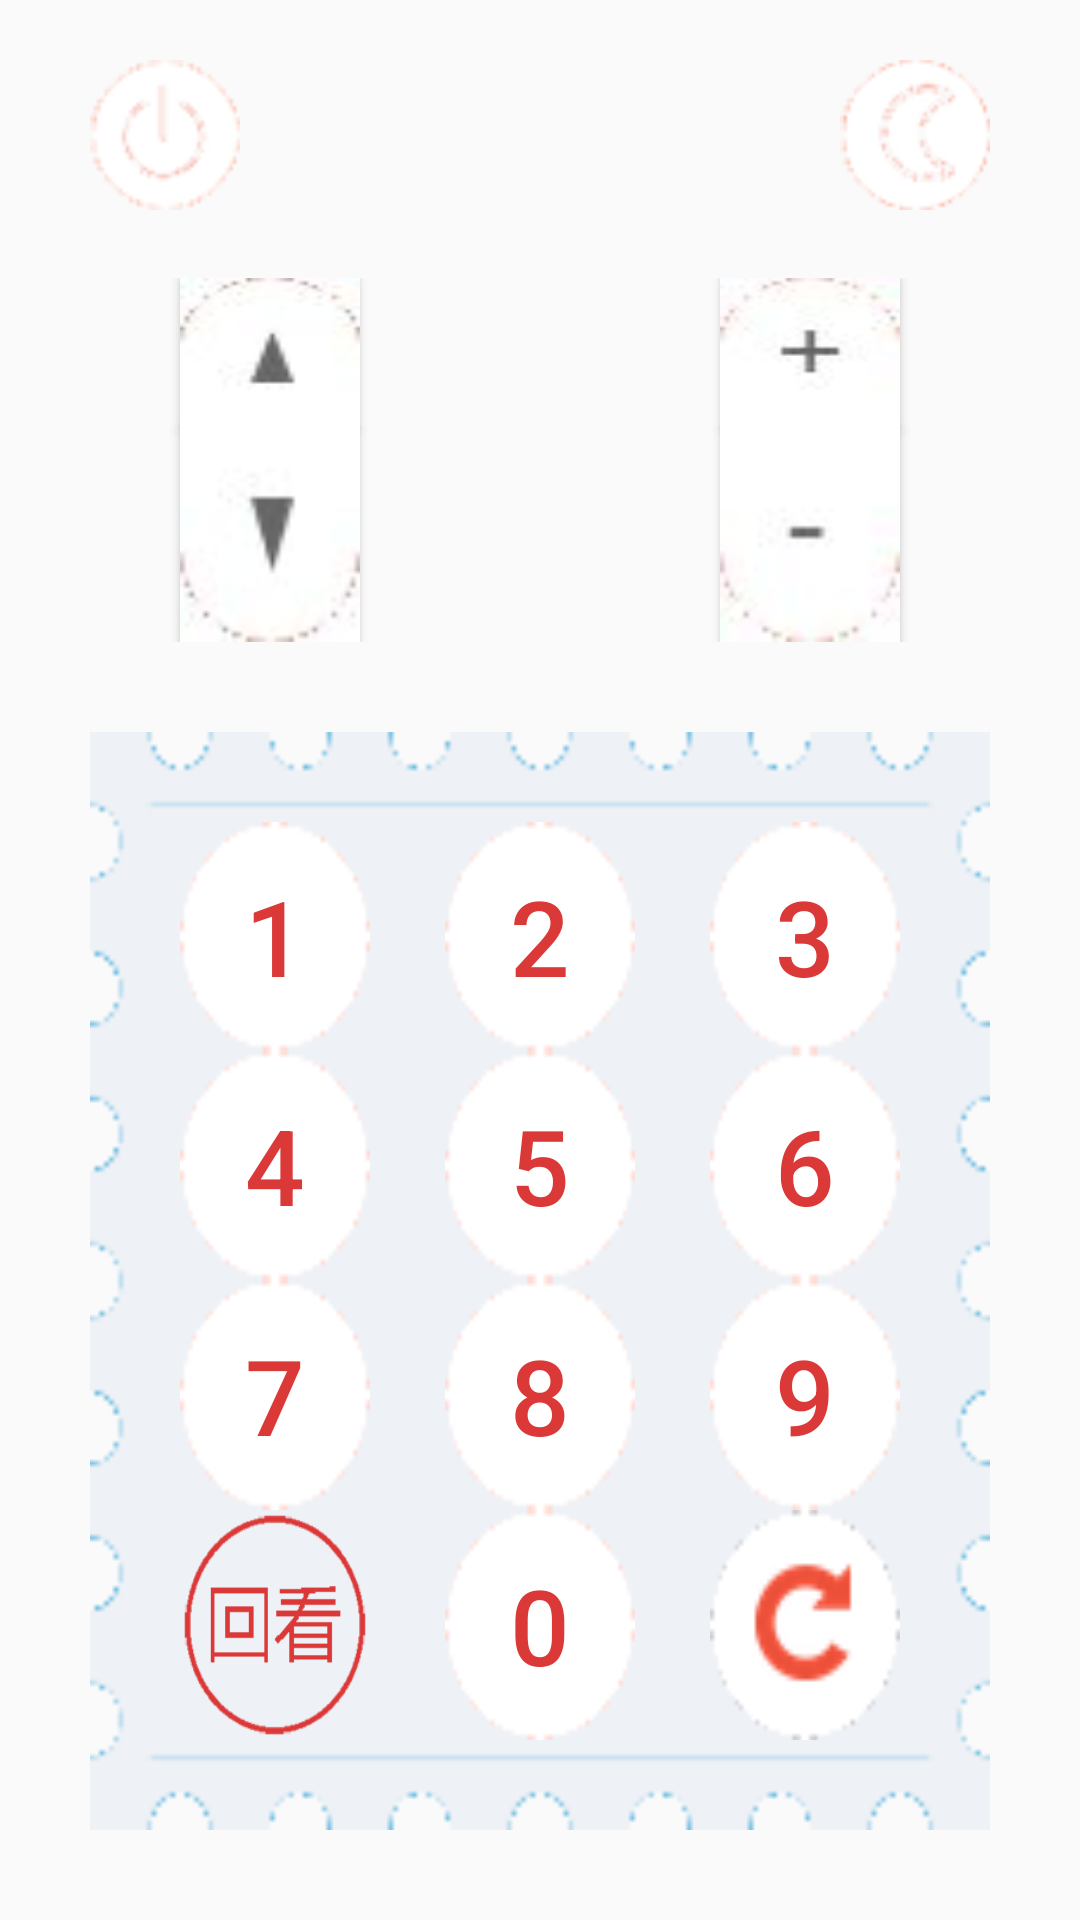

Screen size 1080px x 1920px. Icon name, then its box in pixels as {"left": x1, "top": y1, "right": x2, "bottom": y2}:
tv kai: {"left": 90, "top": 64, "right": 240, "bottom": 206}
tv shui: {"left": 842, "top": 60, "right": 990, "bottom": 210}
tv yl jia: {"left": 720, "top": 278, "right": 896, "bottom": 373}
tv ylj: {"left": 720, "top": 526, "right": 896, "bottom": 642}
